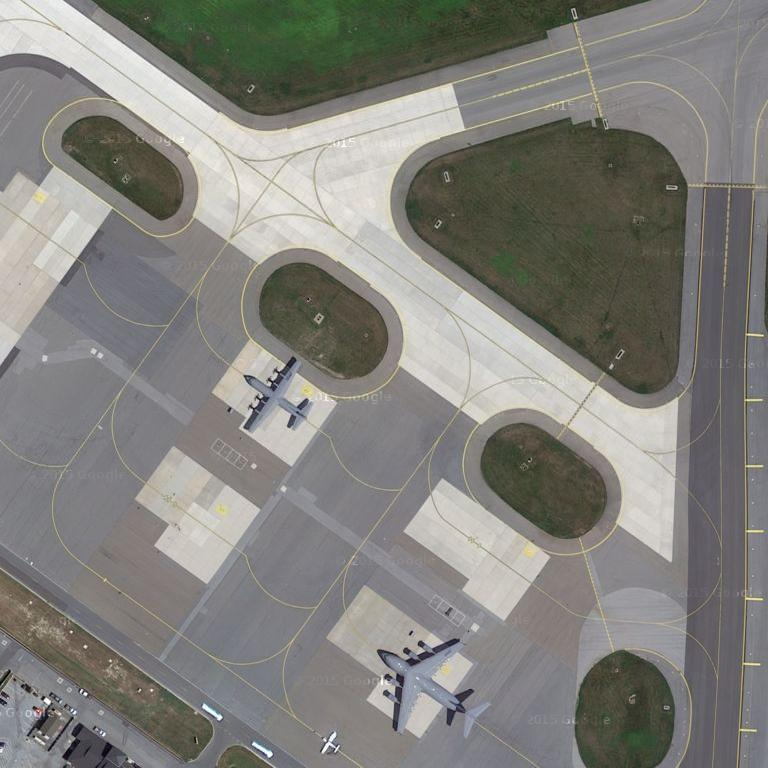C-130: (237, 356, 317, 433)
C-17: (373, 634, 497, 742)
